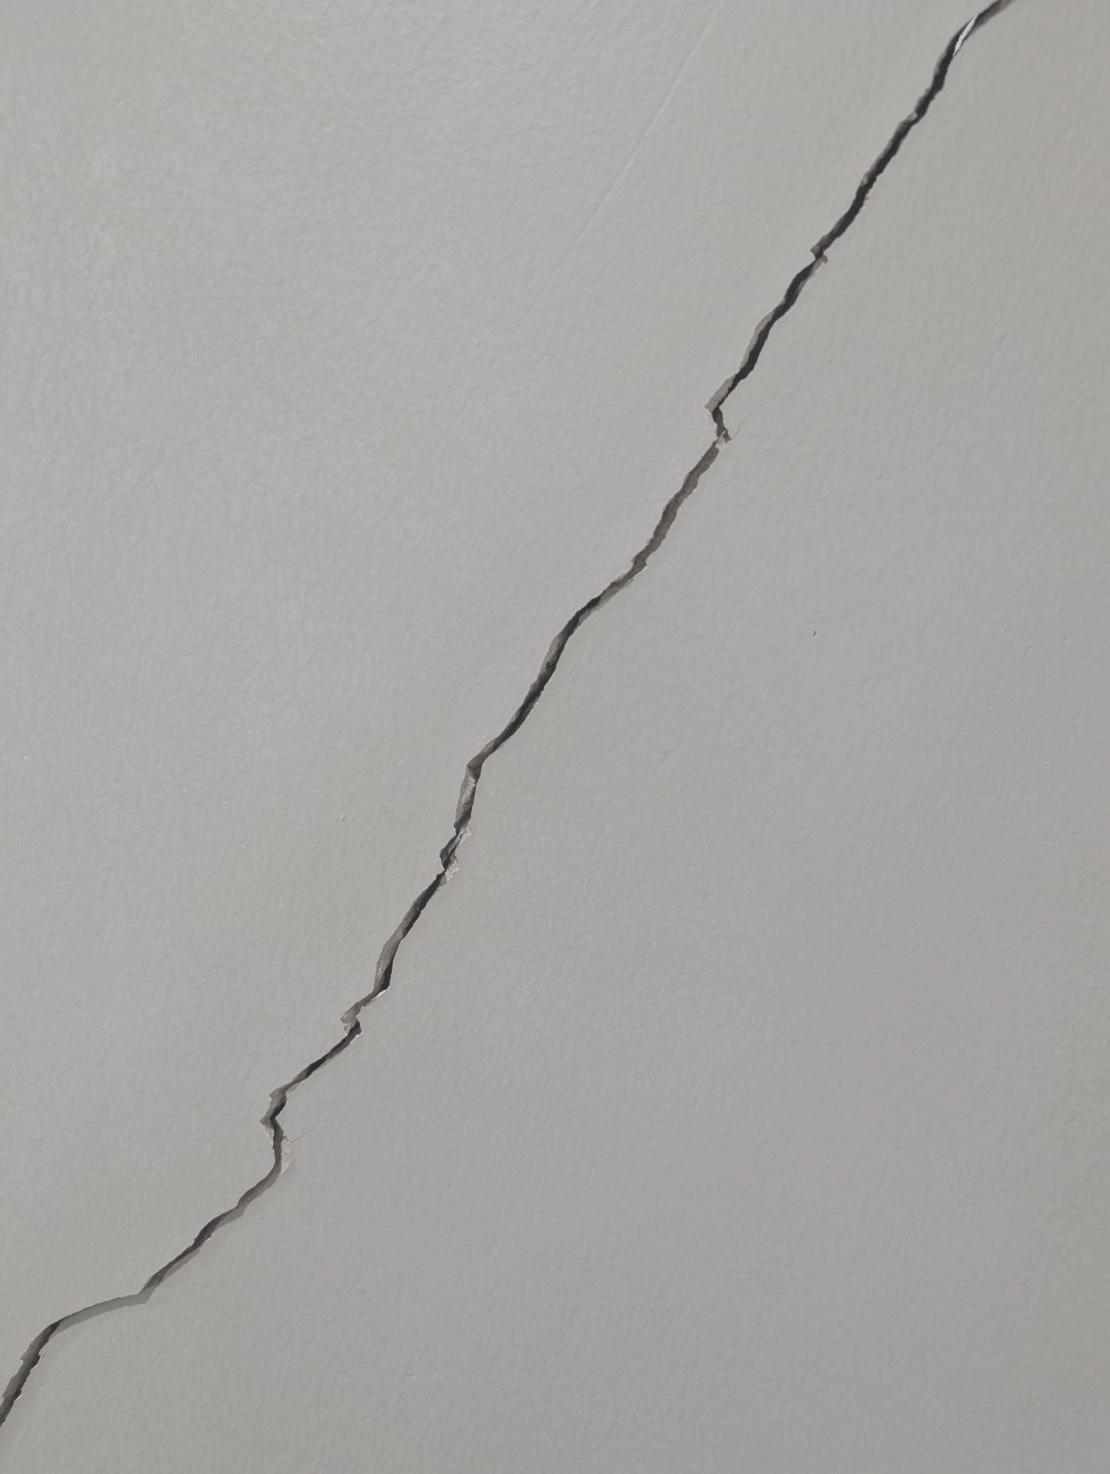High: (8, 5, 1025, 1441)
